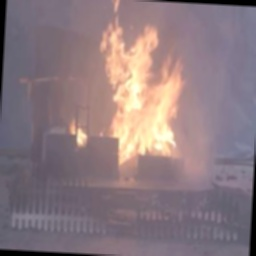fire: (94, 0, 201, 176)
